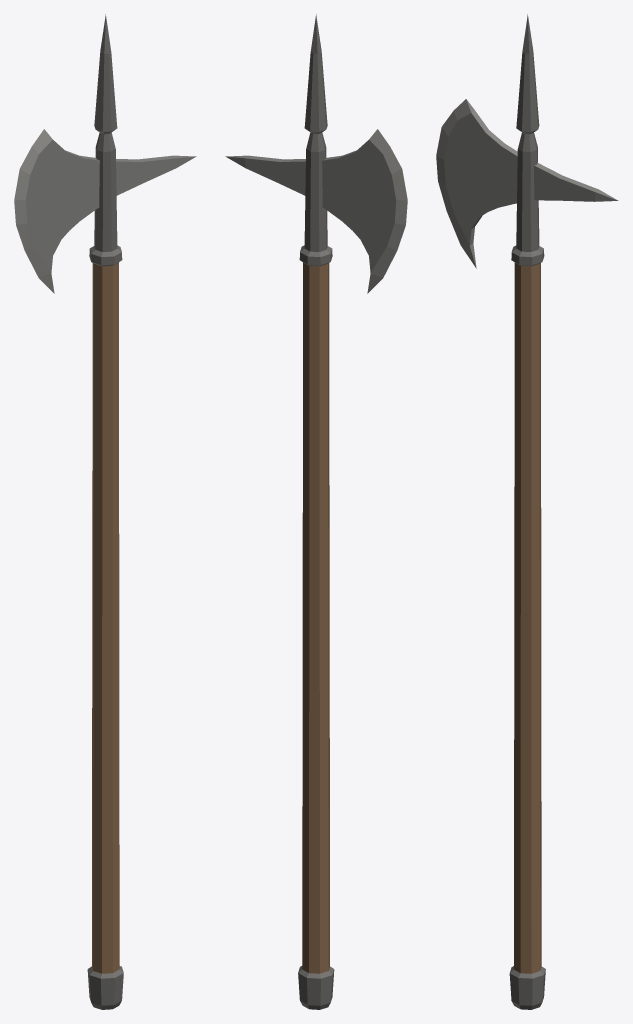
The model's file is SM_pwe_medieval_halberd_01.fbx.
The picture shows the model from 3 angles, left to right: view 1: azimuth 30°, elevation 25°; view 2: azimuth 150°, elevation 25°; view 3: azimuth 330°, elevation 25°; orthographic projection.
Parts seen in each view (by area): view 1: SM_pwe_medieval_halberd_01; view 2: SM_pwe_medieval_halberd_01; view 3: SM_pwe_medieval_halberd_01.
Boxes of the visible parts, box(x1,y1,x2,y2) form: SM_pwe_medieval_halberd_01: box(14, 14, 196, 1009); SM_pwe_medieval_halberd_01: box(225, 14, 407, 1009); SM_pwe_medieval_halberd_01: box(436, 14, 618, 1009).
Size of the model in its own units: 32.97 by 172 by 5.87.
